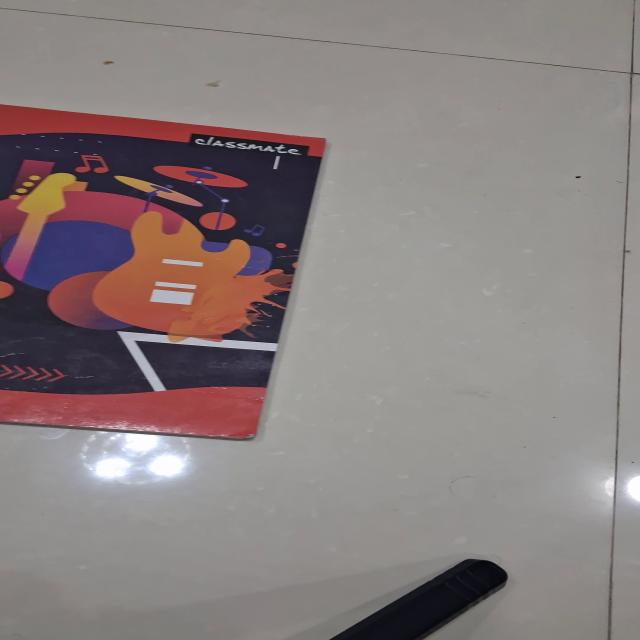paper: (1, 104, 326, 440)
